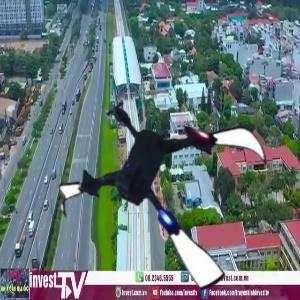drone: (64, 75, 282, 293)
